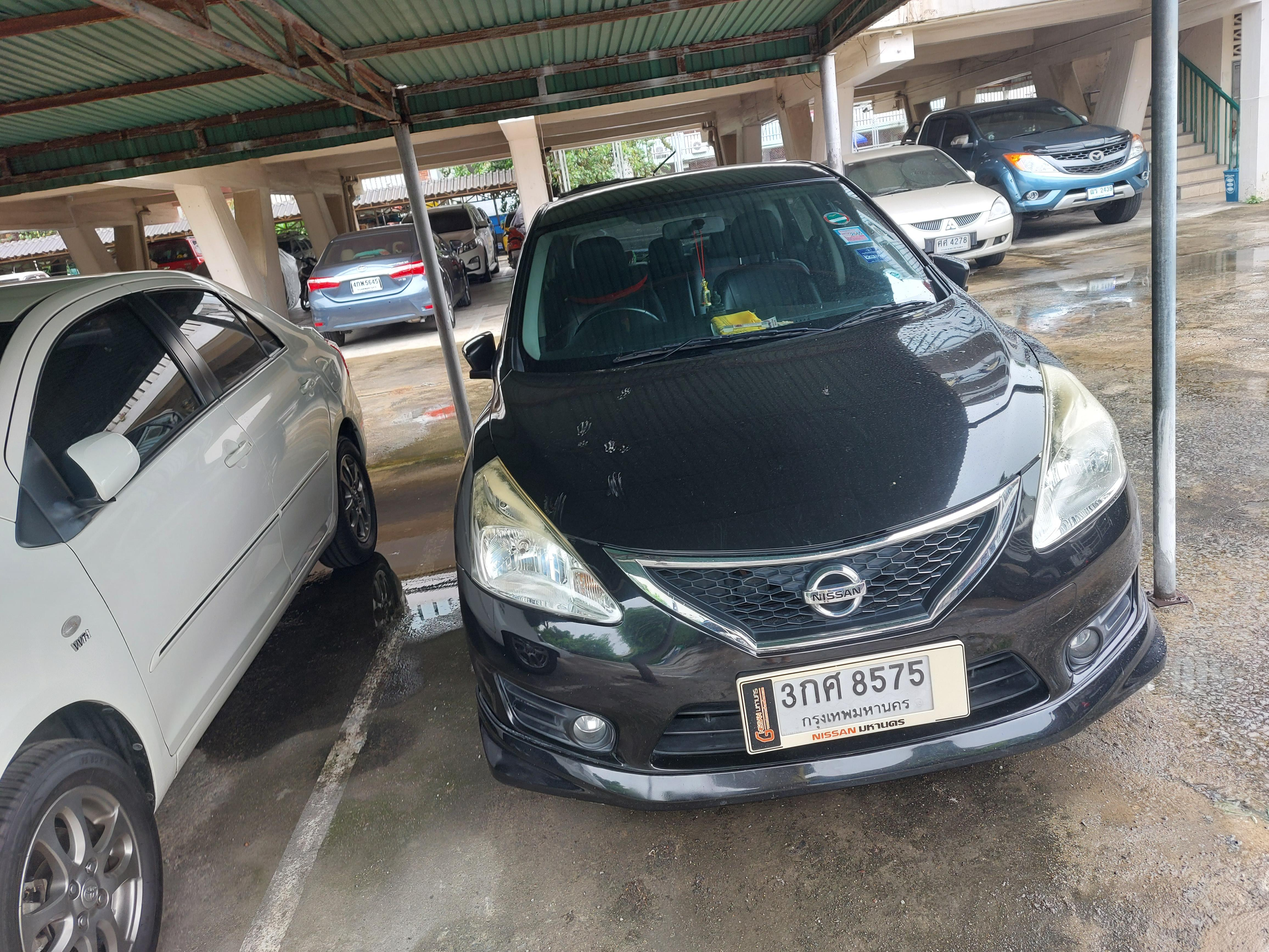license-plate: (736, 640, 972, 757), (935, 229, 976, 255), (346, 273, 386, 297), (1087, 181, 1119, 201)
